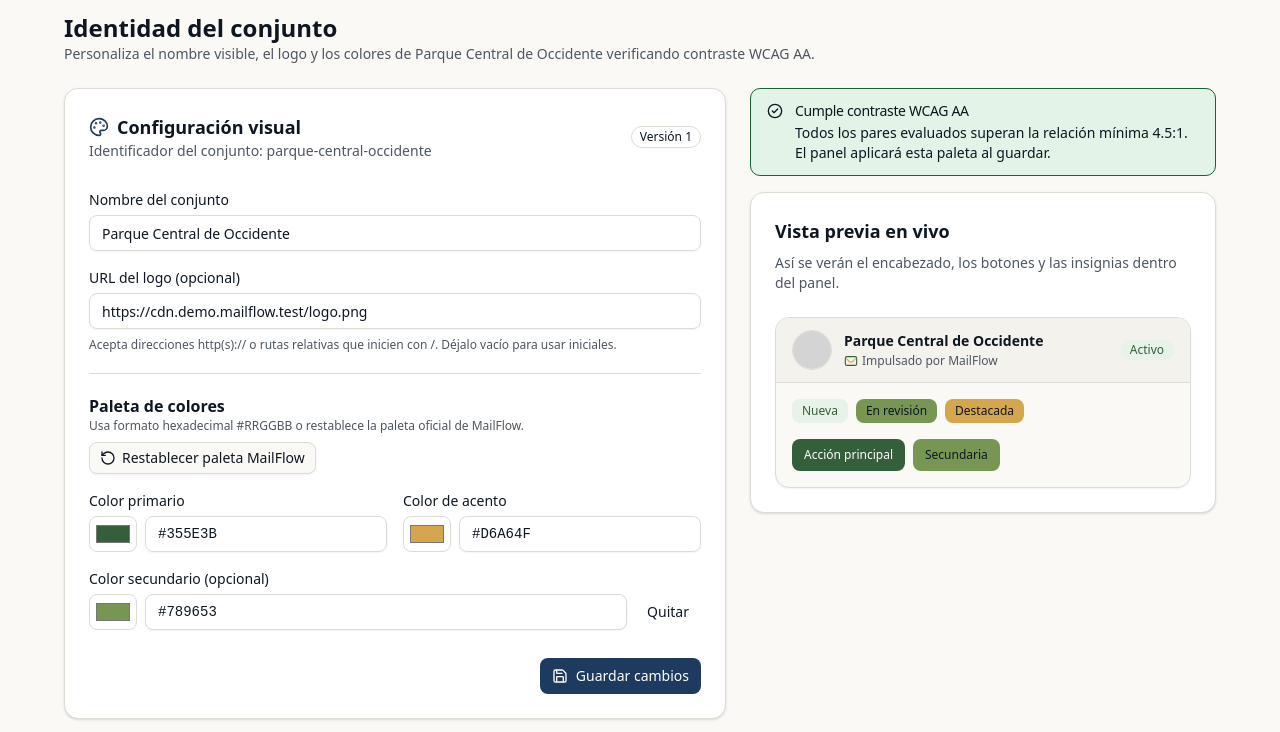
Test: IdentidadPage › evalúa contraste WCAG AA en vivo (válido vs inválido con detalle de problemas y aviso de respaldo)
Expected: the text "Cumple contraste WCAG AA" is shown, [795,101,969,120]
Cambia primario a amarillo (#FFFF00): falla contraste AA
Step 1. Replace the text in the field labelled "Color primario" with "#FFFF00" → (266, 534), box [145,516,387,552]
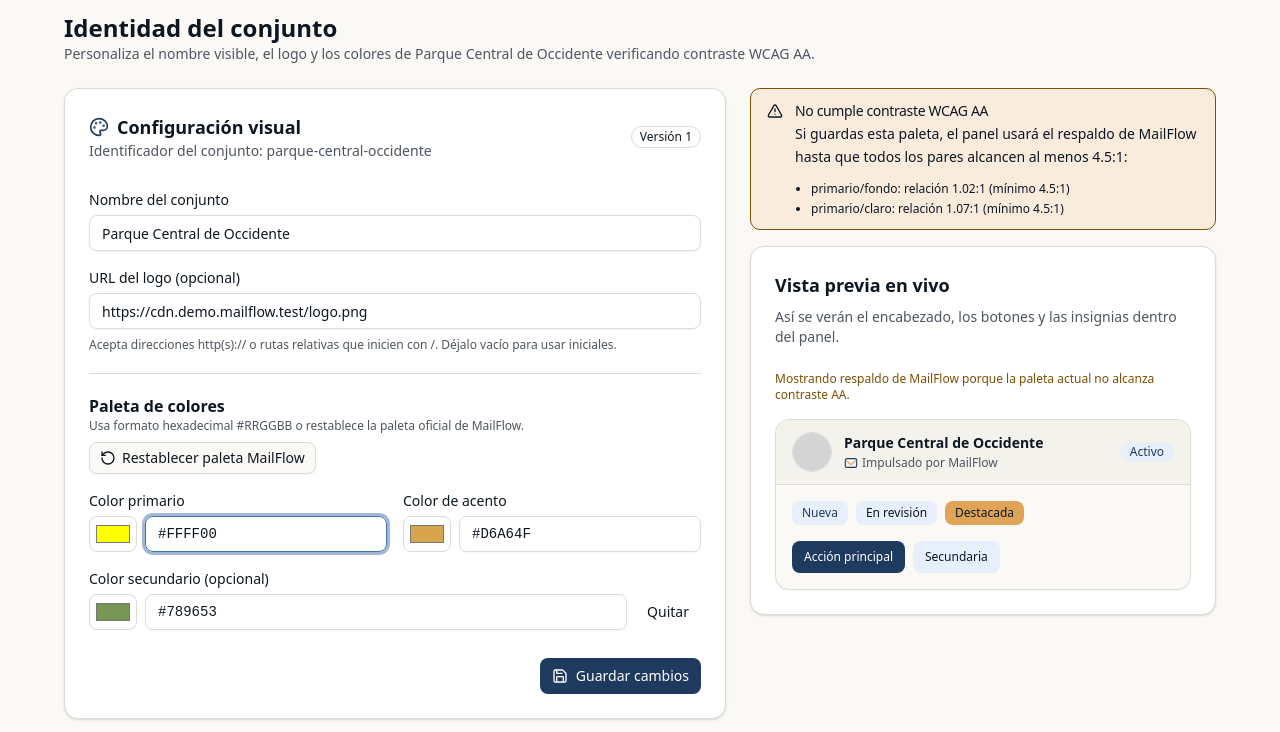
Expected: the text "No cumple contraste WCAG AA" is shown, [795,101,988,120]
Expected: the text "primario/fondo" is shown, [811,180,898,196]
Expected: the text "respaldo de MailFlow" is shown, [795,124,1196,166]
